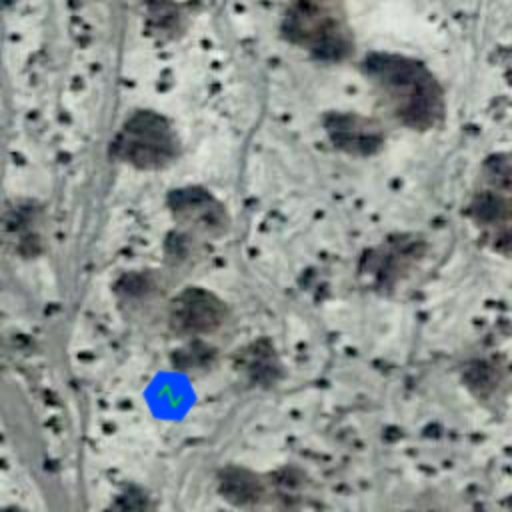hexagon: (130, 356, 210, 436)
